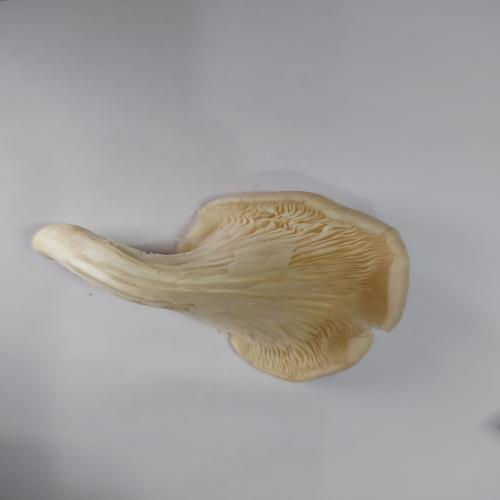Oyster Mushroom: (31, 189, 411, 383)
